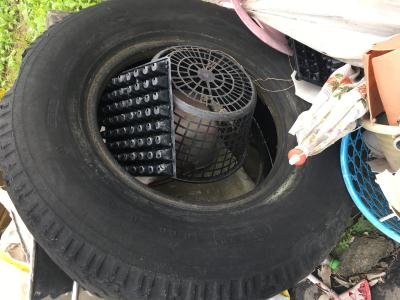box: (100, 57, 177, 180)
tire: (1, 1, 359, 298)
